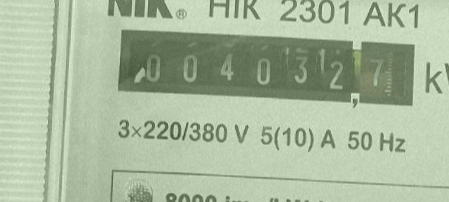0: (181, 51, 202, 84), (255, 53, 275, 87), (145, 50, 165, 83)
2: (328, 57, 348, 91)
3: (293, 53, 312, 85)
4: (218, 49, 239, 86)
7: (370, 55, 388, 89)
screen: (109, 20, 426, 118)
